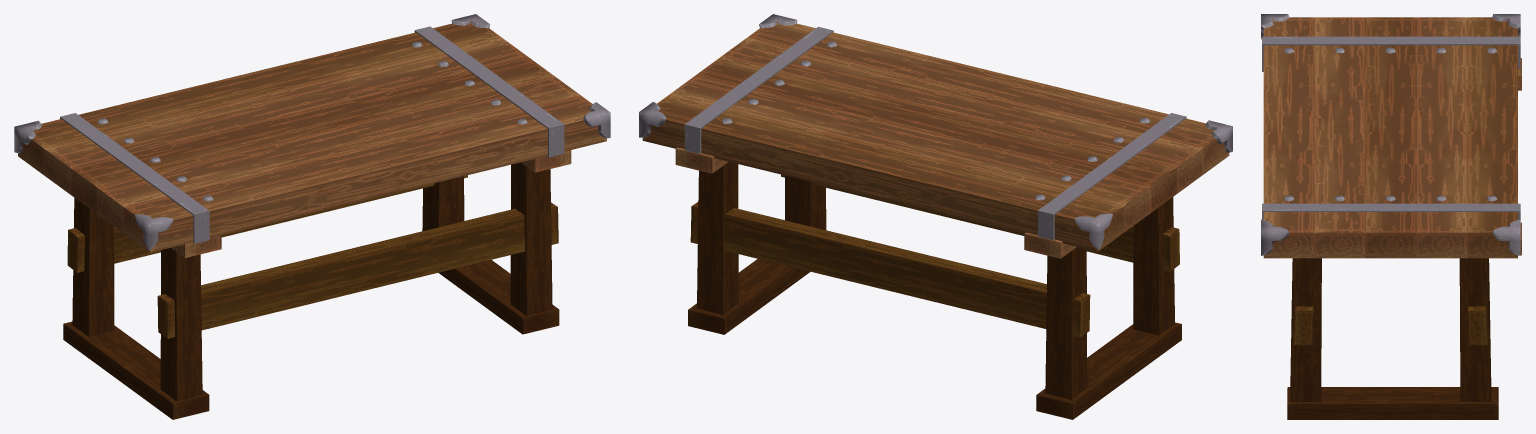
The model's file is Workbench.gltf.
3 views of the same model, side by side, from view 1: azimuth 30°, elevation 25°; view 2: azimuth 150°, elevation 25°; view 3: azimuth 270°, elevation 25° (orthographic). The views are drawn at different scales.
Parts seen in each view (by area): view 1: Workbench; view 2: Workbench; view 3: Workbench.
Part boxes in pixels (box(x1,y1,x2,y2)): Workbench: box(14, 14, 610, 419); Workbench: box(639, 14, 1232, 419); Workbench: box(1261, 14, 1521, 419).
Size of the model in its own units: 2.02 by 0.8945 by 1.02.
2 materials, 2 textured.
